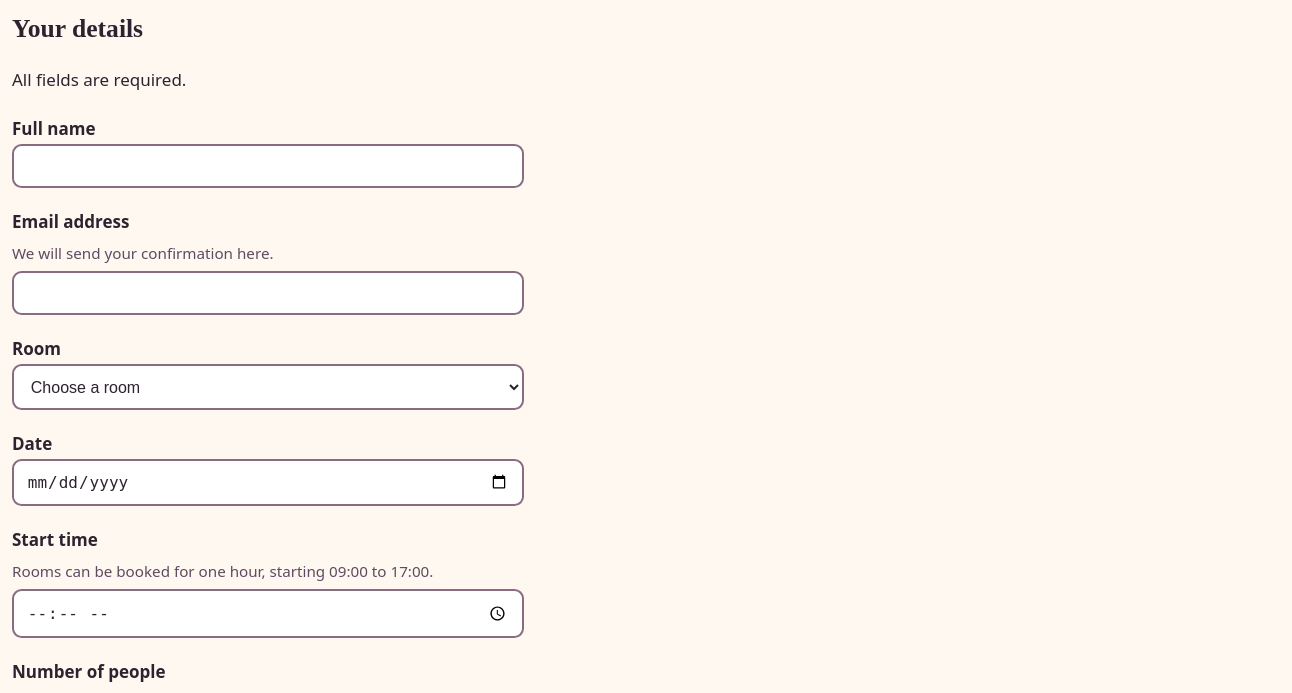
Test: Booking Form › rejects more people than the room holds
Select "Quiet Room A (up to 2)" in the dropdown labelled "Room" at [268, 387], box [12,364,524,410]
(page scrolled)
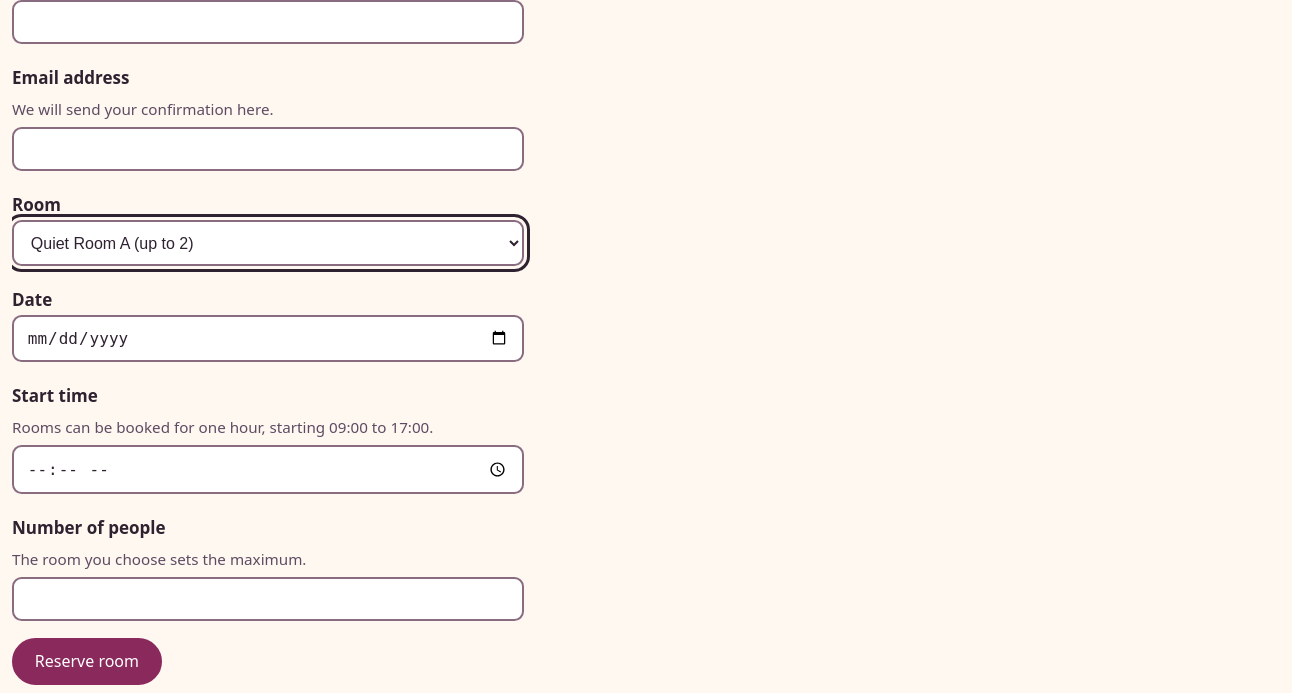
Type "5" into the number field labelled "Number of people".
click(268, 599); type("5")  # box [12,577,524,621]
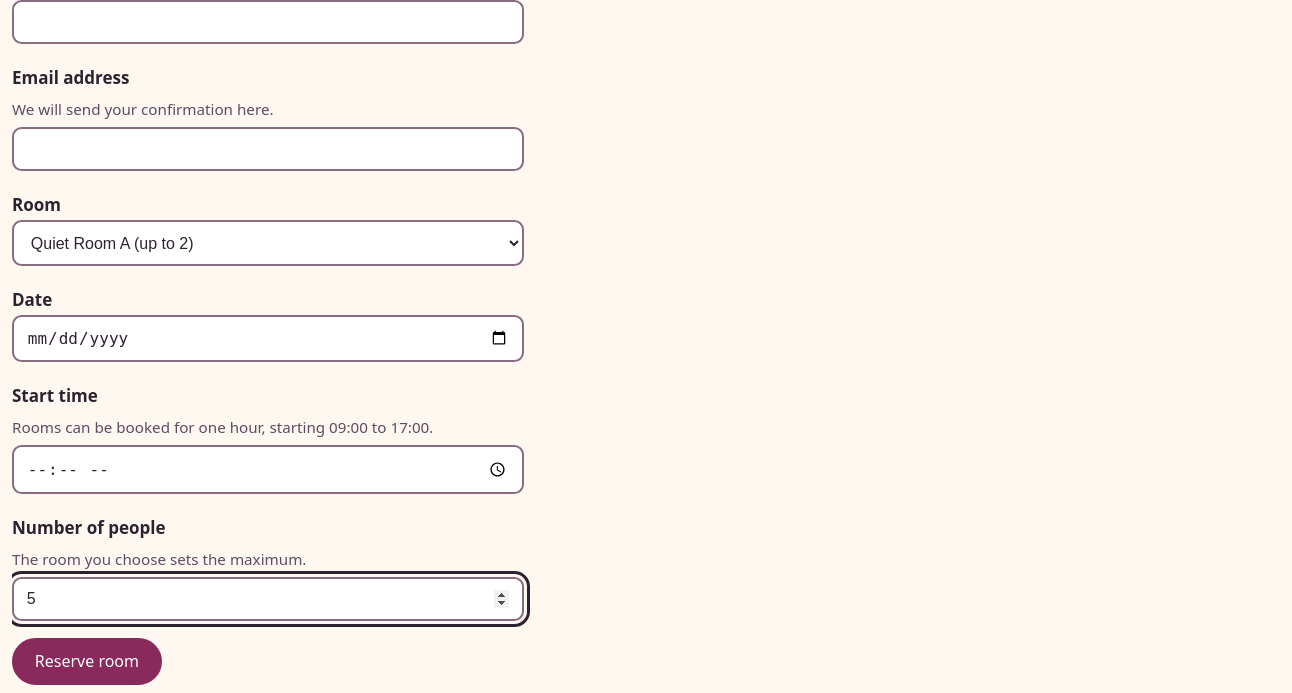
Click the button "Reserve room".
click(87, 661)  # box [12,638,162,685]
(page scrolled)
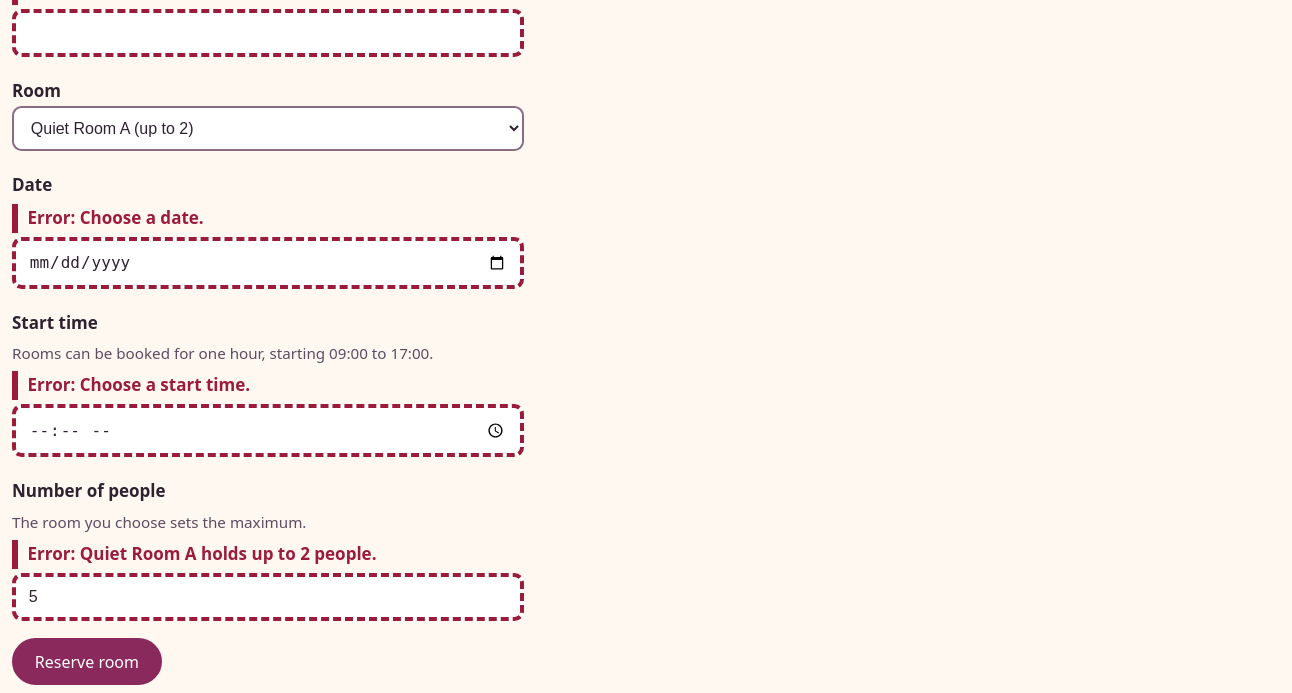
expect the text "Error: Quiet Room A holds up to 2 people." is shown: met, box [12,540,1291,569]
